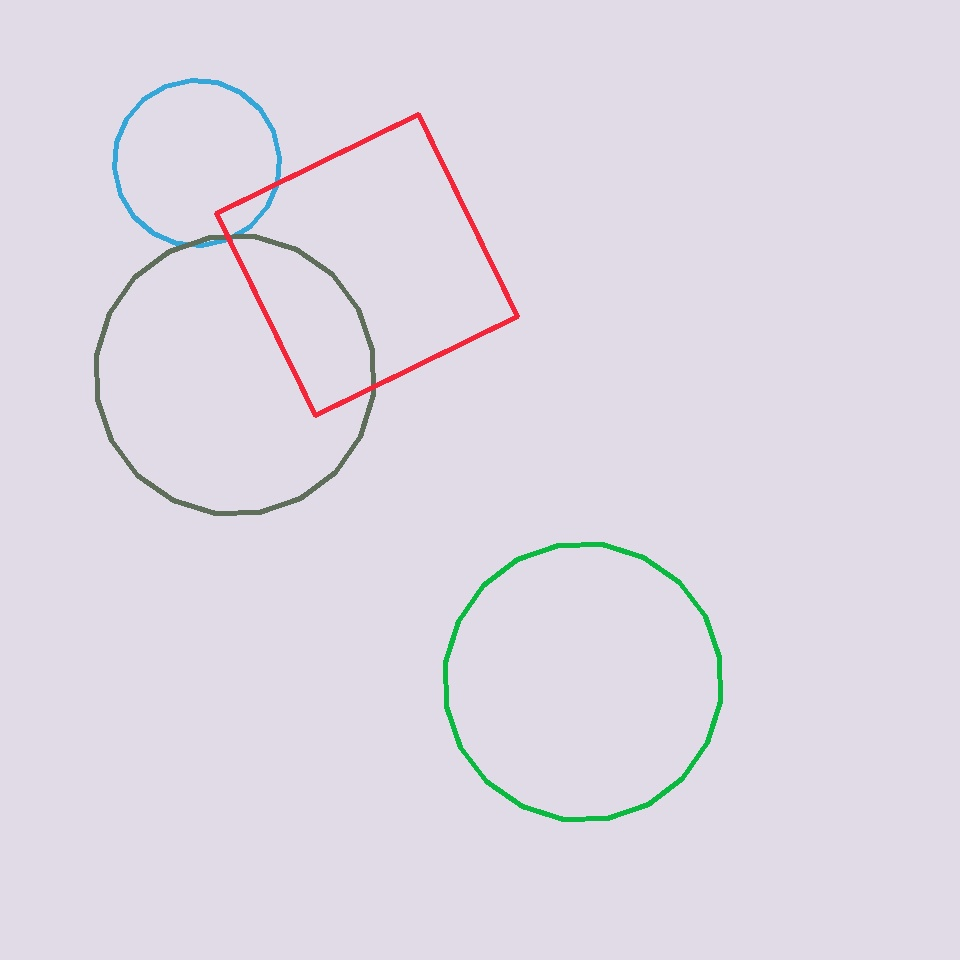square: (216, 115, 518, 416)
triangle: (96, 236, 374, 514), (446, 545, 720, 820), (114, 80, 280, 246)
